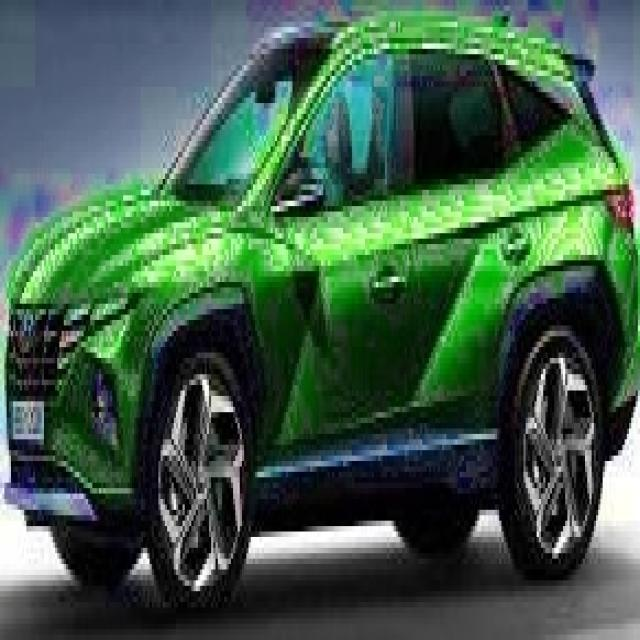green: (6, 19, 640, 615)
